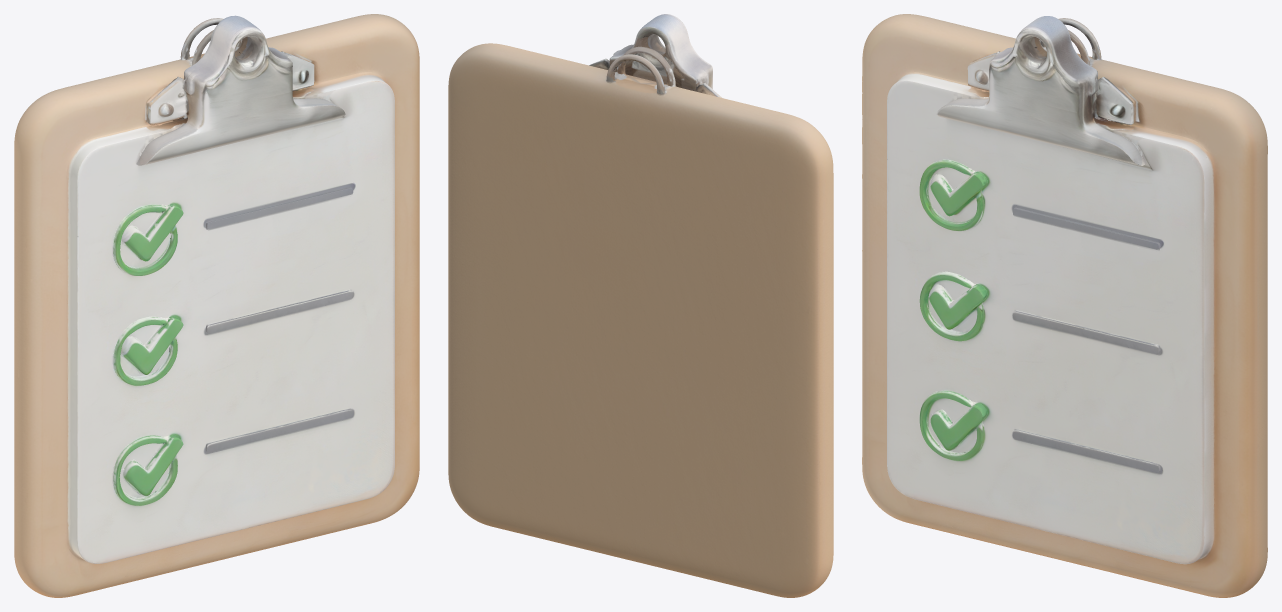
Rendered from list_shaded.glb.
3 views of the same model, side by side, from view 1: azimuth 30°, elevation 25°; view 2: azimuth 150°, elevation 25°; view 3: azimuth 330°, elevation 25° (orthographic). The views are drawn at different scales.
Parts seen in each view (by area): view 1: model; view 2: model; view 3: model.
Boxes of the visible parts, box(x1,y1,x2,y2) form: model: box(14, 14, 419, 597); model: box(448, 14, 833, 597); model: box(862, 14, 1267, 597).
Bounding box in the file's own units: 1.43 × 1.9 × 0.2744.
1 material, 1 textured.
